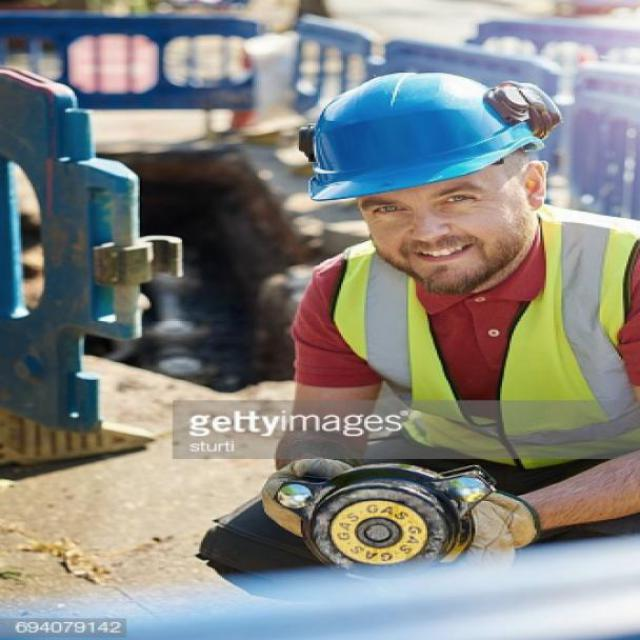gloves: (224, 458, 355, 534), (452, 484, 560, 574)
helmet: (270, 68, 587, 306)
vest: (295, 254, 628, 438)
